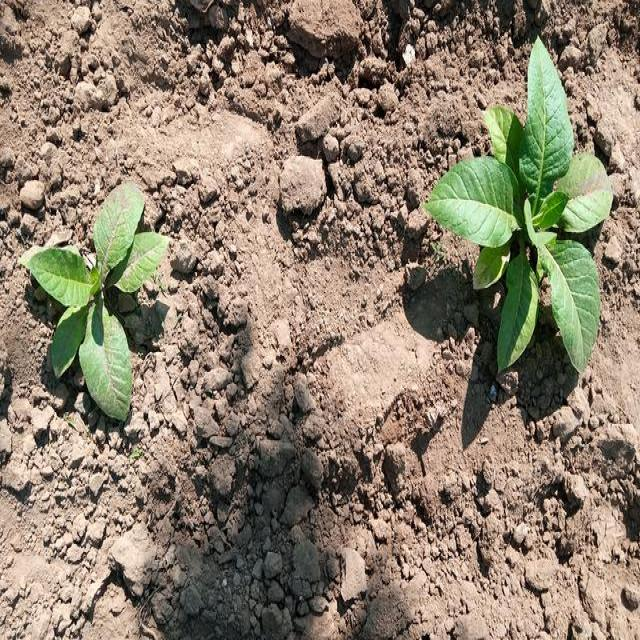crop: (416, 42, 619, 380), (25, 184, 171, 429)
